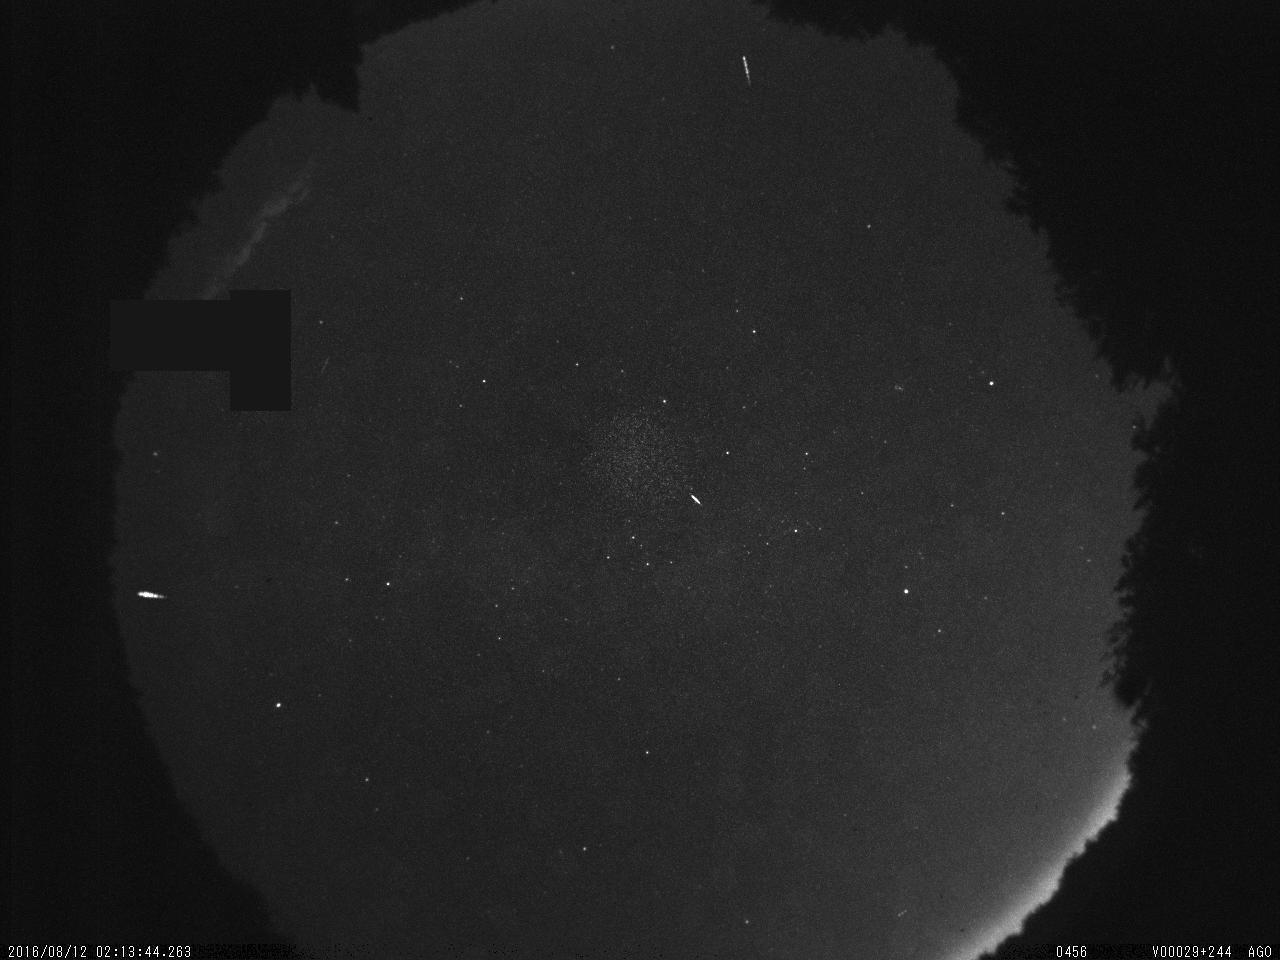Meteor: (738, 53, 752, 87), (135, 588, 167, 601)
